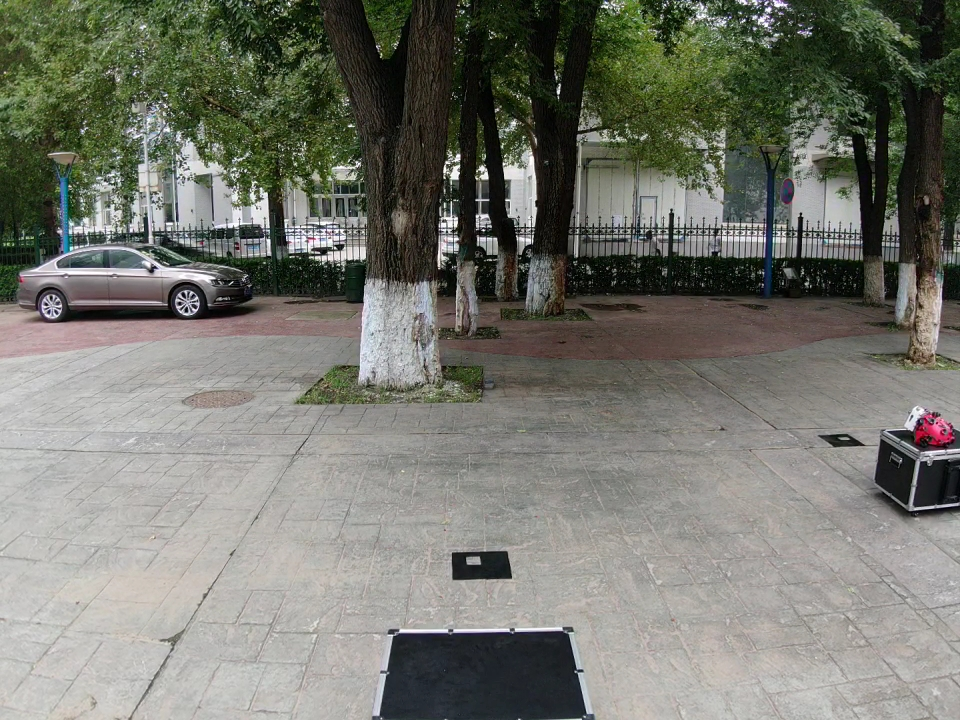box: (372, 627, 594, 720), (878, 429, 958, 511)
helmet: (914, 413, 956, 446)
qrcode: (451, 552, 511, 580), (818, 434, 865, 447)
